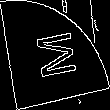M_W: (30, 27, 80, 83)
